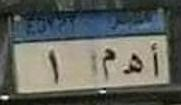1: (44, 45, 65, 86)
alif: (148, 40, 162, 79)
haa: (122, 51, 146, 74)
meem: (98, 44, 119, 81)
